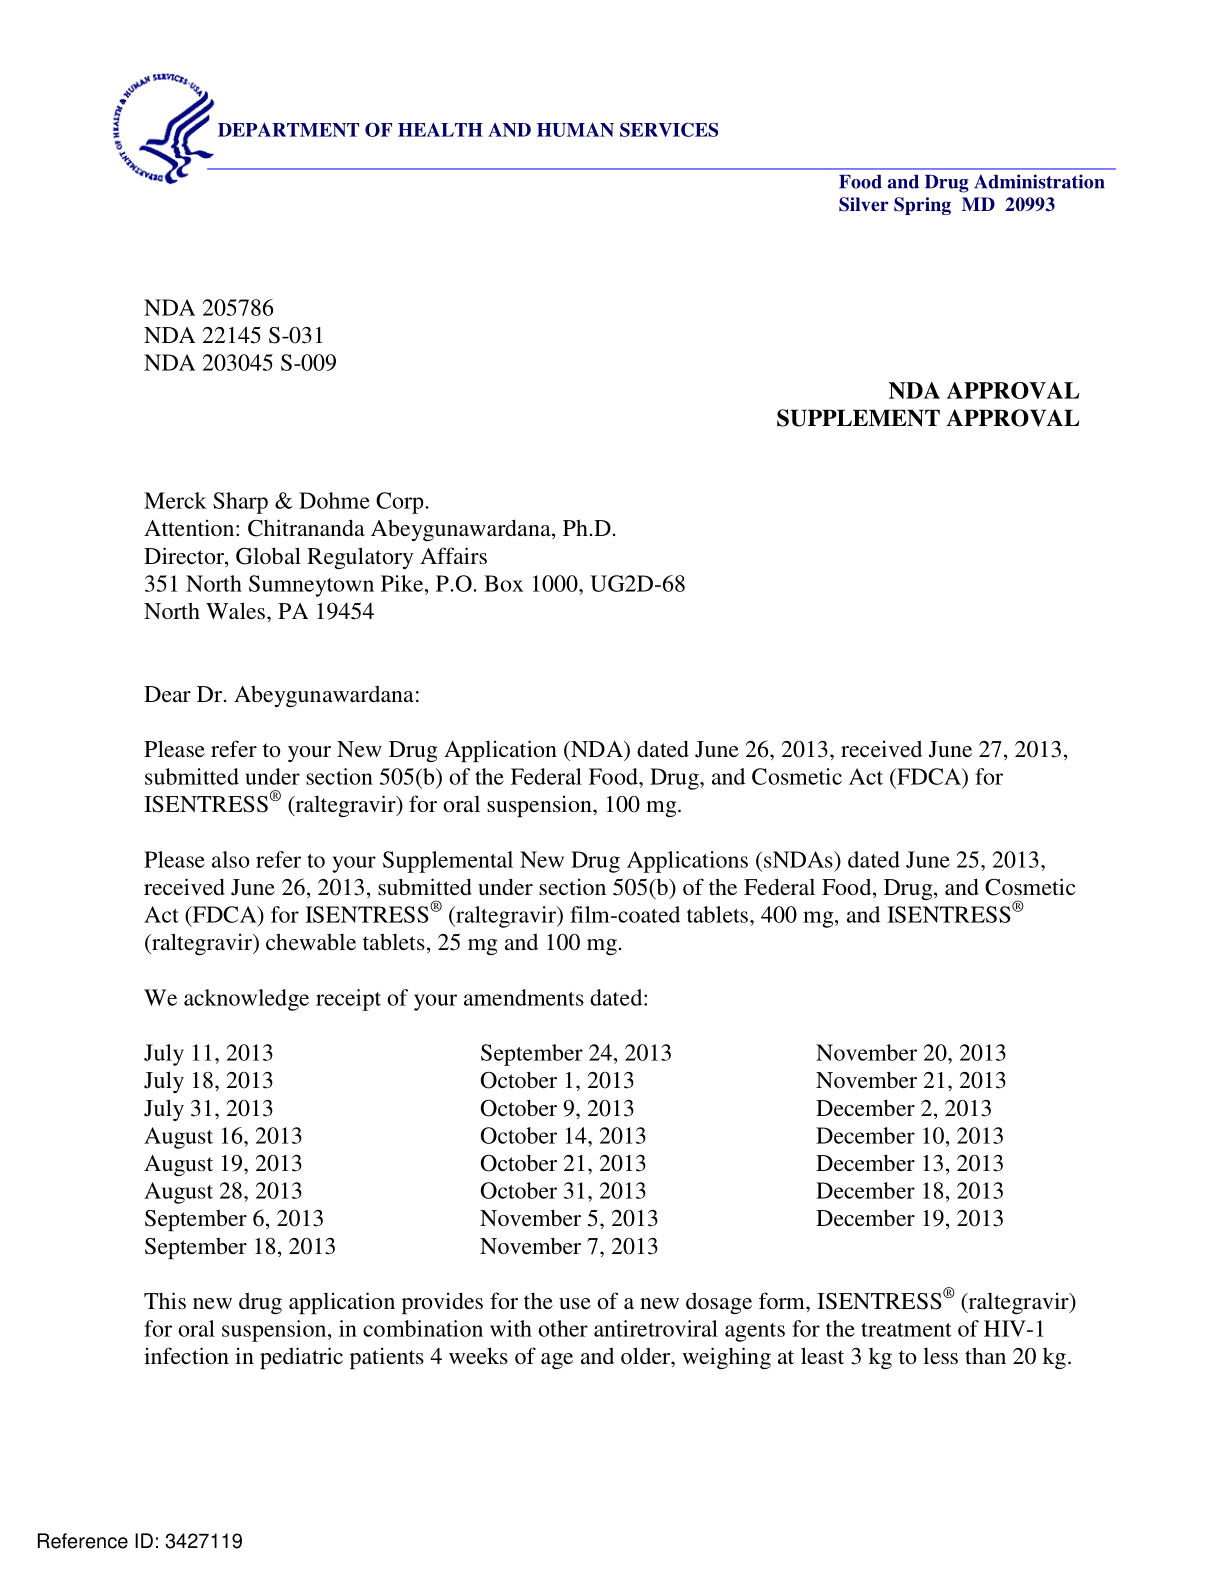nolines: (141, 1039, 1013, 1261)
